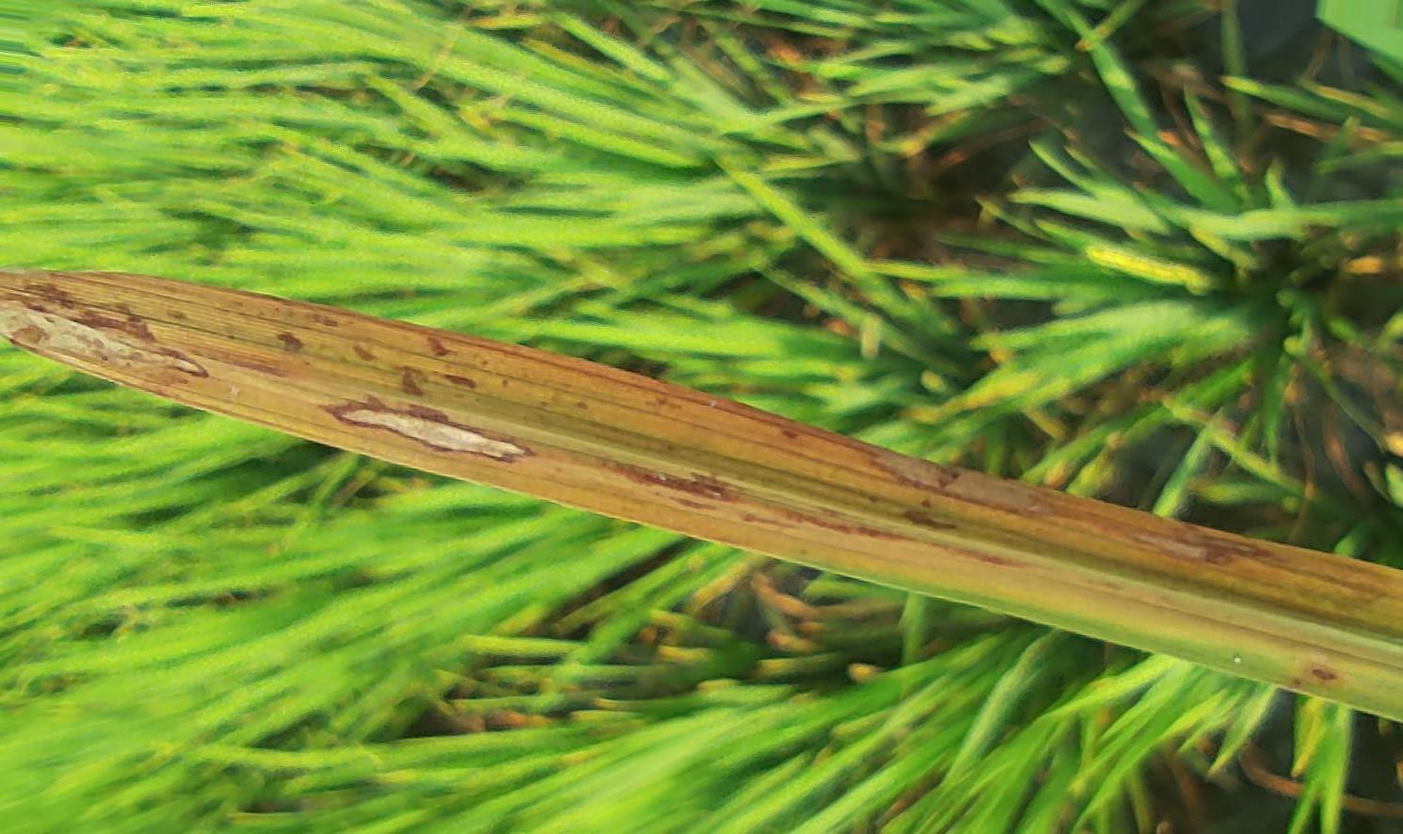LEAF: (0, 269, 1402, 720)
LEAF BLAST: (0, 283, 210, 402), (317, 393, 534, 464), (846, 438, 1040, 515), (1115, 519, 1276, 565)
